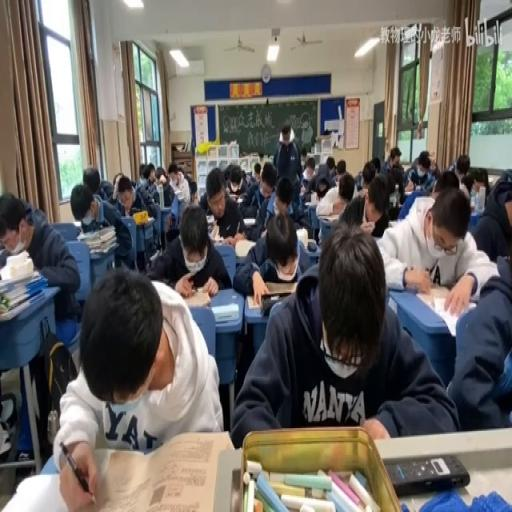calculator: (414, 286, 478, 336), (0, 469, 70, 509), (246, 284, 297, 308), (49, 219, 78, 242), (179, 287, 212, 306), (210, 300, 238, 322), (210, 224, 233, 244), (234, 238, 256, 256), (294, 226, 308, 248), (316, 212, 342, 222), (132, 215, 154, 226), (226, 192, 242, 201), (242, 216, 256, 225), (149, 248, 159, 260), (304, 198, 317, 206), (206, 215, 215, 226), (388, 219, 398, 228), (72, 219, 81, 228), (404, 185, 414, 193), (300, 183, 306, 195)
paper: (235, 219, 455, 445), (54, 264, 219, 512), (0, 189, 82, 455), (147, 202, 229, 296), (77, 176, 138, 270), (470, 170, 511, 260), (341, 175, 390, 240), (244, 165, 282, 239), (272, 124, 302, 202), (403, 146, 436, 192), (146, 165, 176, 209), (298, 156, 318, 196), (432, 168, 459, 196), (82, 165, 101, 195), (358, 161, 376, 192), (386, 168, 402, 202), (384, 144, 402, 170), (170, 176, 188, 200), (454, 154, 470, 179), (459, 175, 475, 200), (222, 162, 234, 189), (275, 192, 290, 213), (112, 170, 125, 194), (187, 179, 197, 205), (325, 155, 335, 178), (429, 159, 440, 178), (371, 155, 381, 174), (336, 158, 346, 175), (280, 125, 290, 141), (240, 168, 250, 183), (253, 160, 260, 180), (168, 170, 178, 184), (138, 160, 145, 178), (175, 164, 184, 176), (300, 145, 307, 157)
person: (384, 452, 470, 494), (306, 239, 316, 250)
